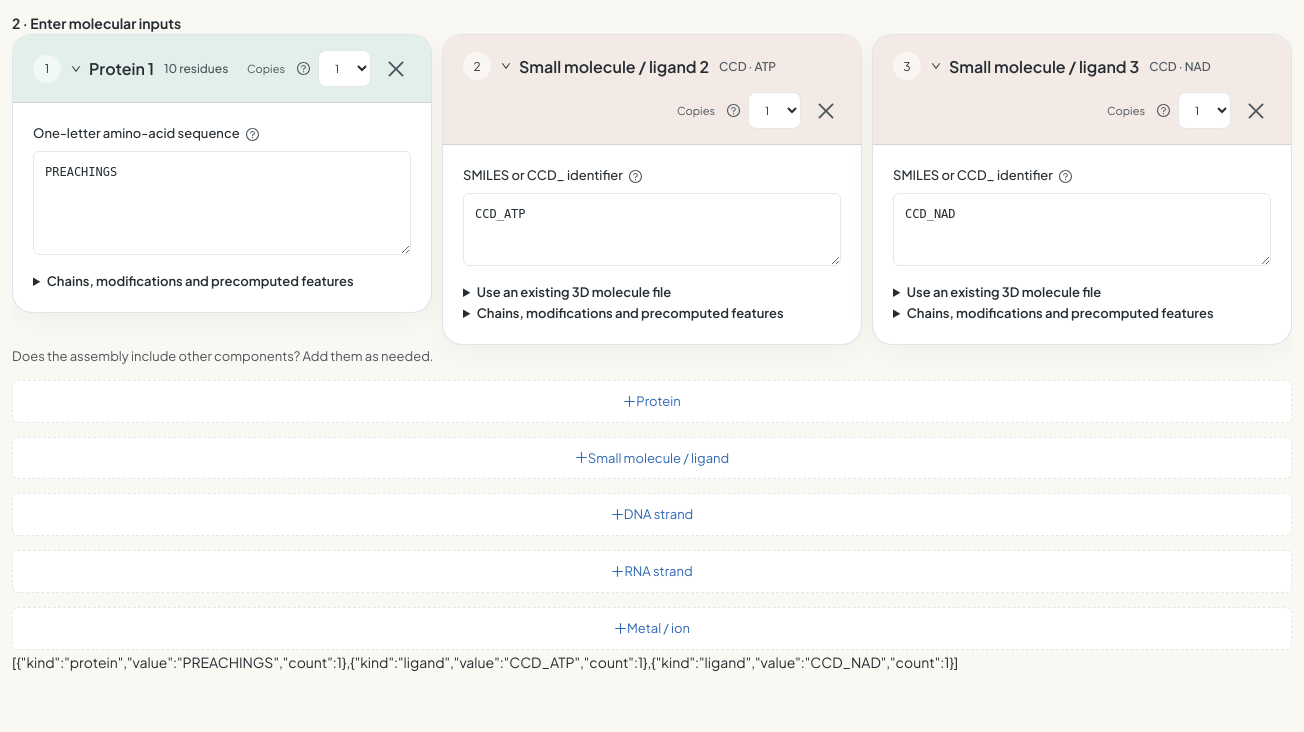
Test: retains input DOM, edits, copies and collapse state on the same surviving entity
In the text box labelled "One-letter amino-acid sequence": point(222, 203) [33,151,411,255], type "G"
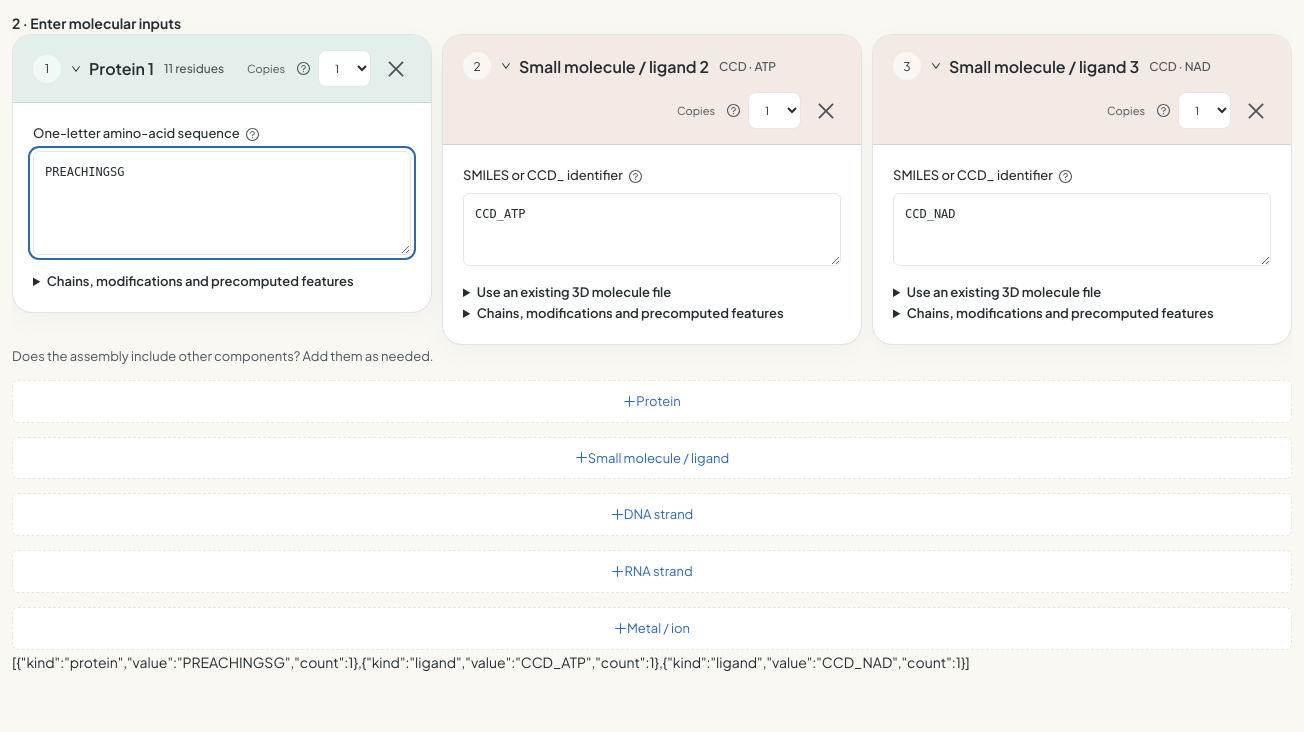
Now the text box labelled "One-letter amino-acid sequence" holds "PREACHINGSG", box [33,151,411,255]
Select "2" in the dropdown named "Copies 1": point(344, 69) [318,50,371,87]
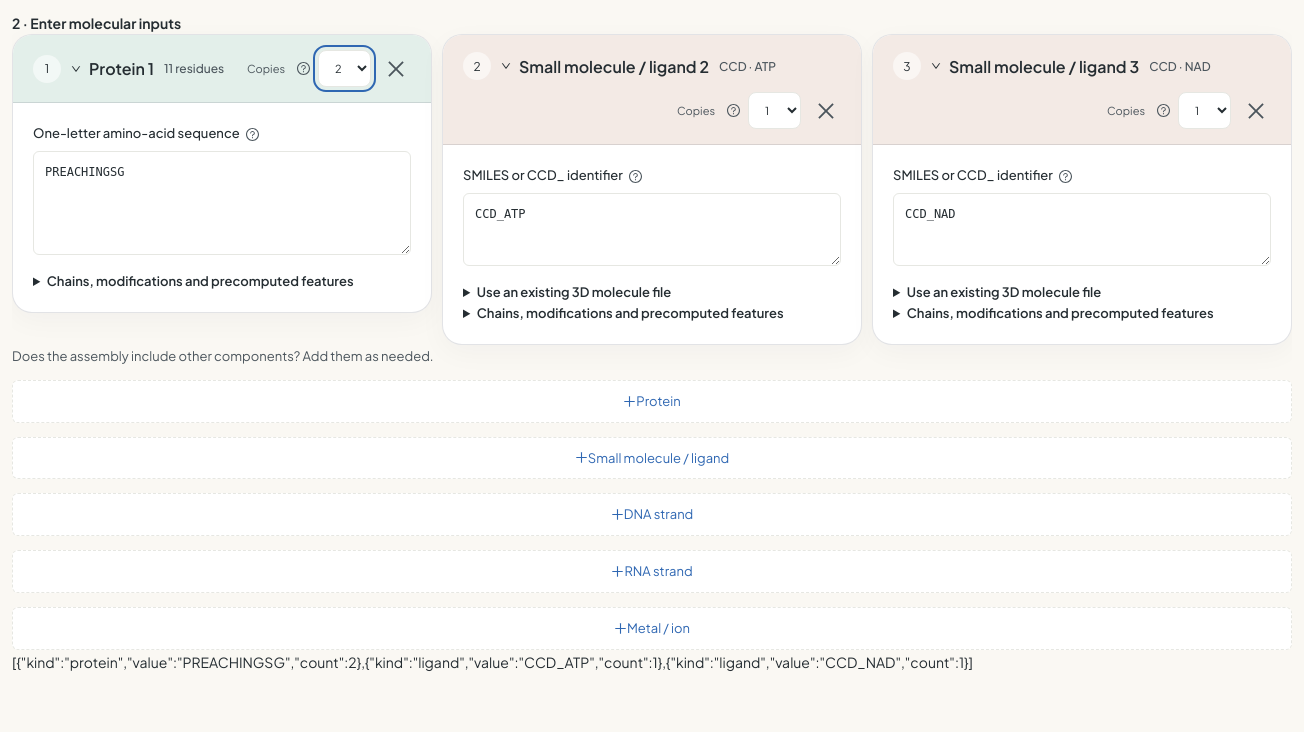
Click the button with aria-label "Collapse Small molecule / ligand 3": point(1035, 66) [931,50,1139,82]
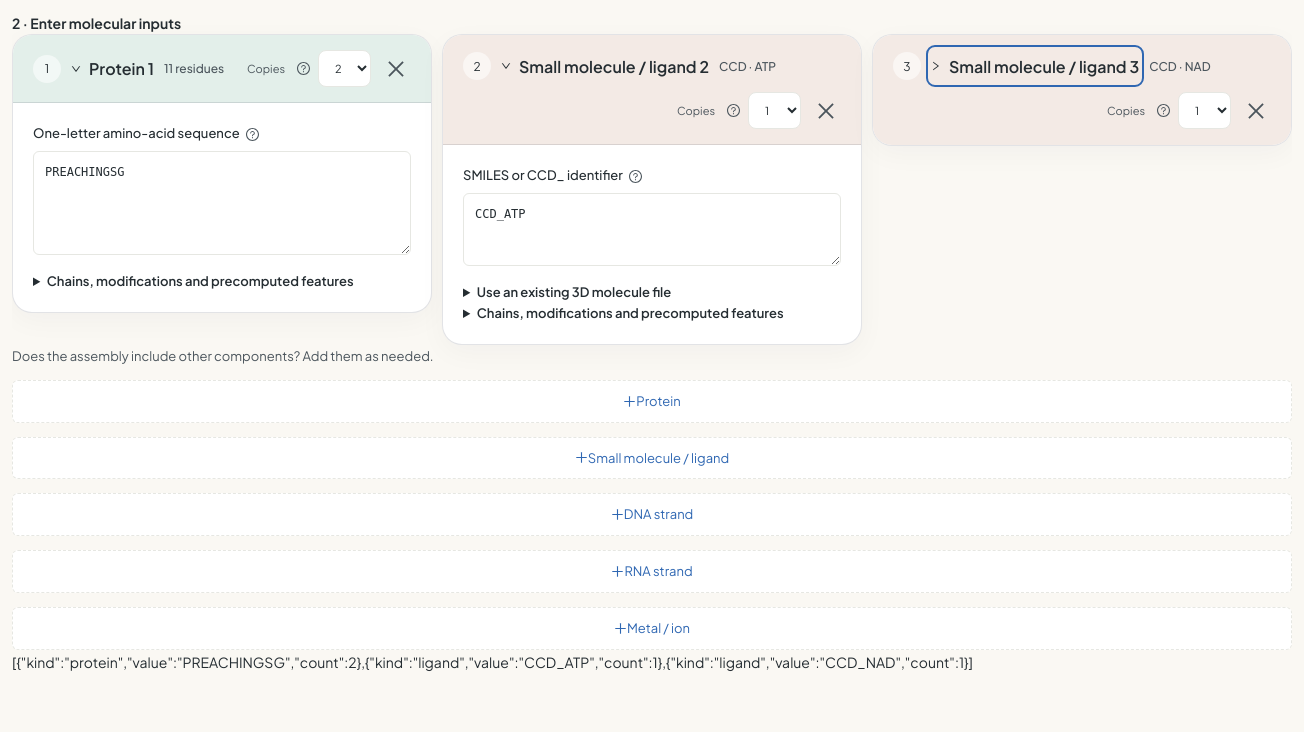
Click the button named "Remove 1": point(396, 69) [381,53,411,85]
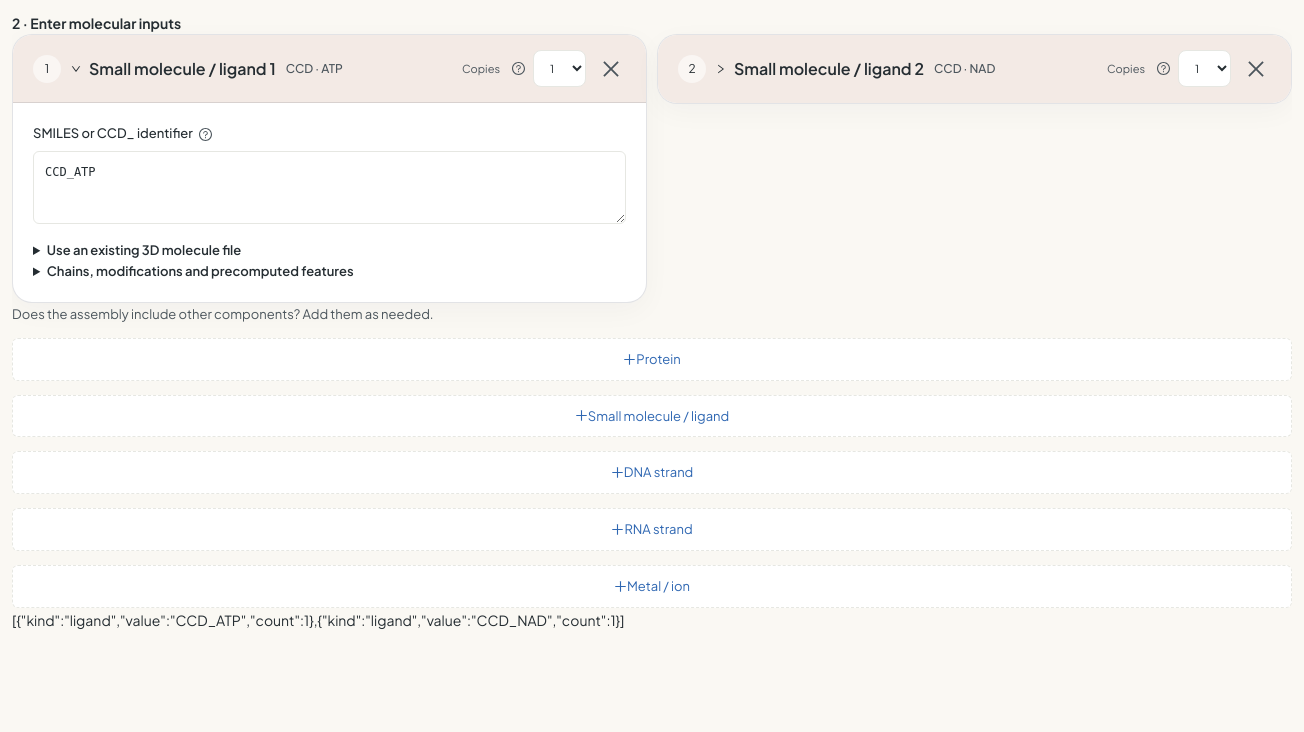
Now the button with aria-label "Expand Small molecule / ligand 2" is collapsed
Click the button with aria-label "Expand Small molecule / ligand 2": point(820, 69) [716,53,924,85]
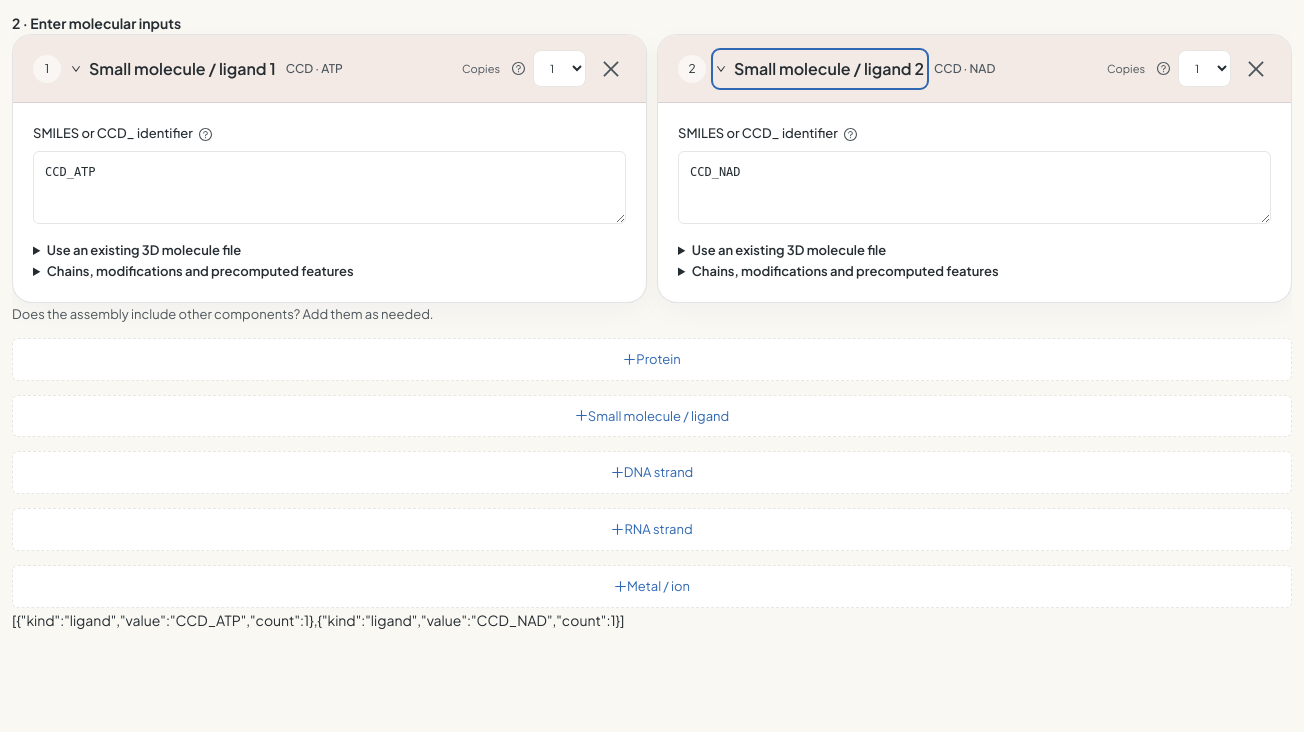
Now the text box labelled "SMILES or CCD_ identifier" below "CCD · NAD" holds "CCD_NAD", box [678,151,1271,224]
